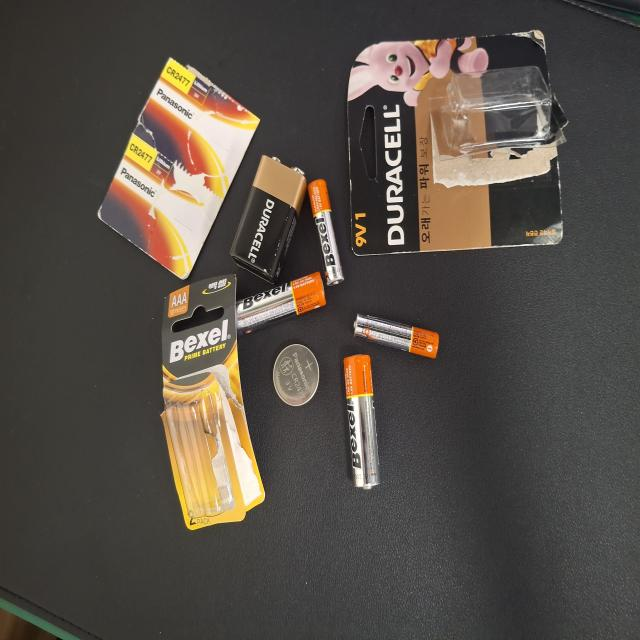9V: (268, 306, 364, 409)
AA: (229, 314, 276, 434), (113, 458, 213, 506)
AAA: (266, 410, 345, 459), (212, 472, 245, 585)
COIN: (176, 364, 222, 426)
